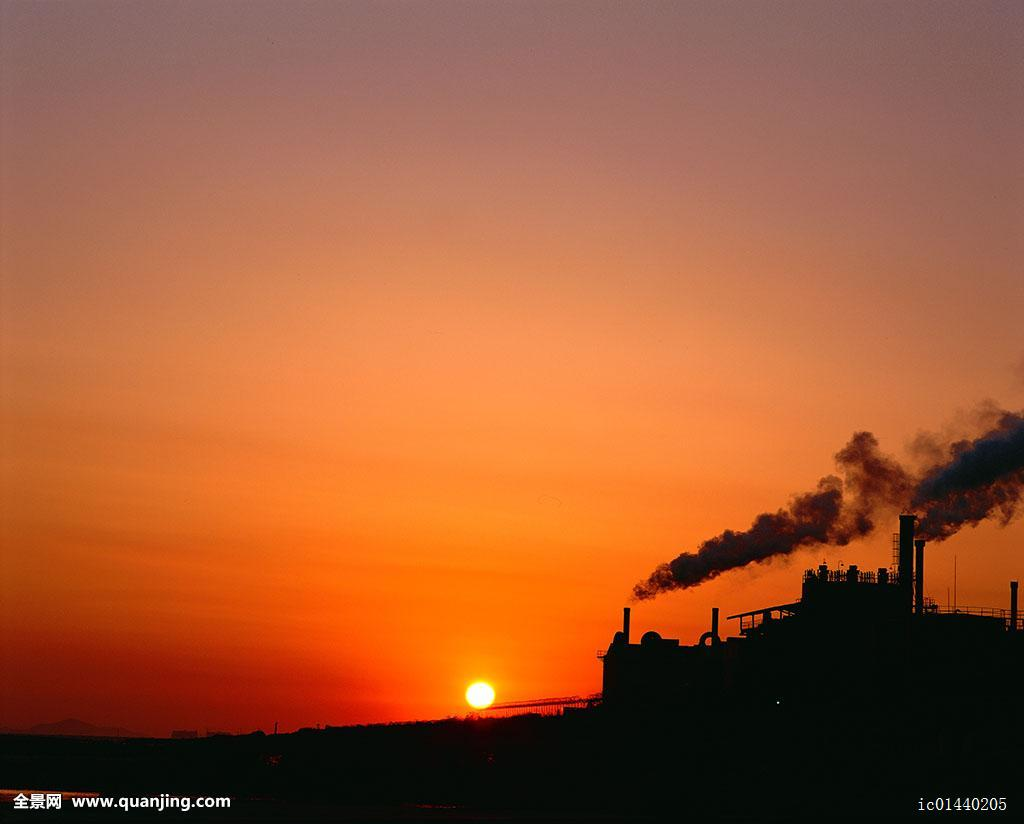dust: (600, 491, 846, 622), (868, 413, 1018, 561)
